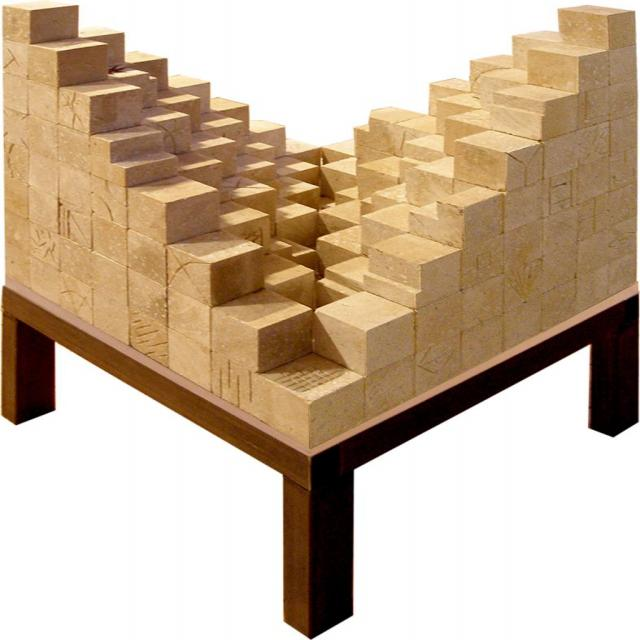Table: (1, 284, 639, 640)
